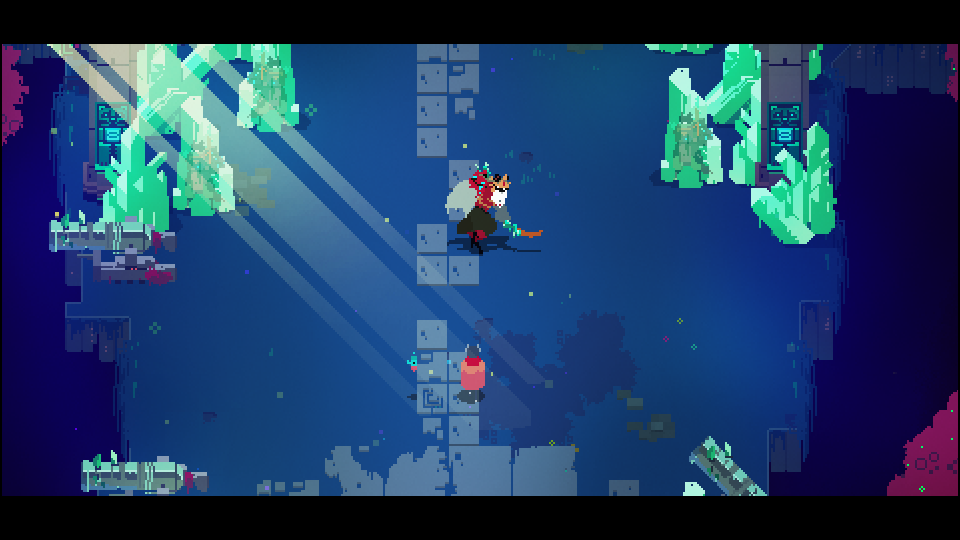hanged_man: (439, 160, 530, 253)
player: (459, 340, 487, 405)
